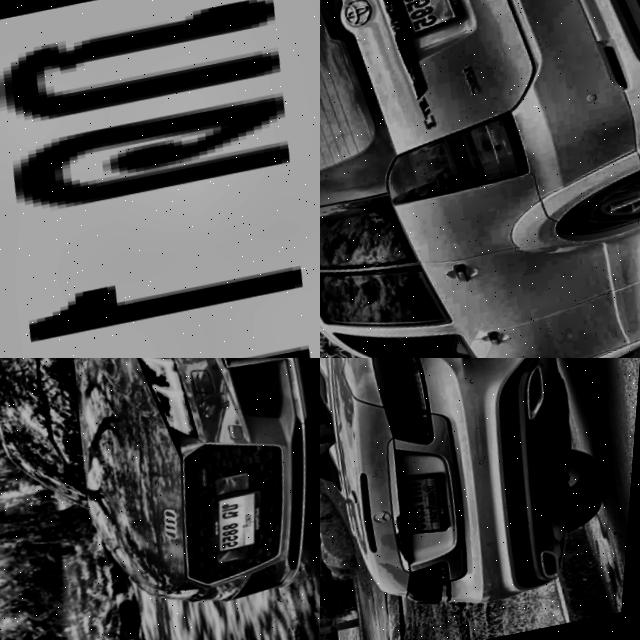license-plate: (0, 0, 320, 358), (388, 465, 472, 551), (373, 0, 477, 46), (211, 491, 276, 559)
